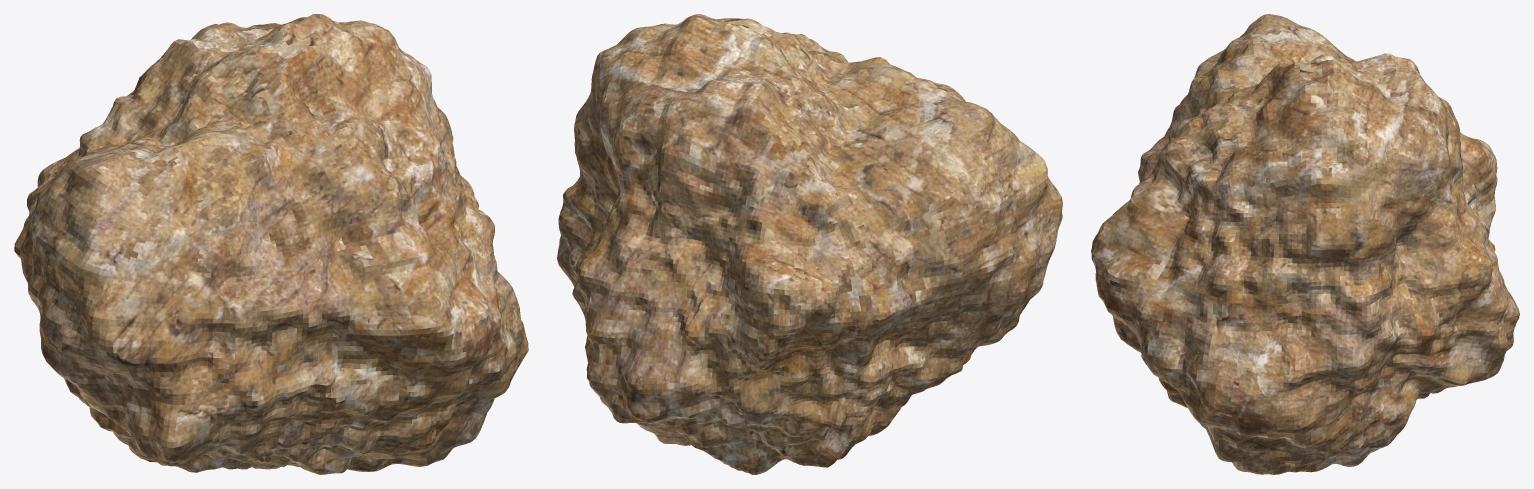
The model's file is meteor.fbx.
3 renders of one model, left to right at view 1: azimuth 30°, elevation 25°; view 2: azimuth 150°, elevation 25°; view 3: azimuth 270°, elevation 25°, orthographic. The views are drawn at different scales.
Visible parts, largest first — view 1: Cube; view 2: Cube; view 3: Cube.
Boxes of the visible parts, <box> form: Cube: <box>14,14,528,474</box>; Cube: <box>557,14,1062,474</box>; Cube: <box>1091,14,1519,474</box>.
Bounding box in the file's own units: 188 × 172 × 174.
